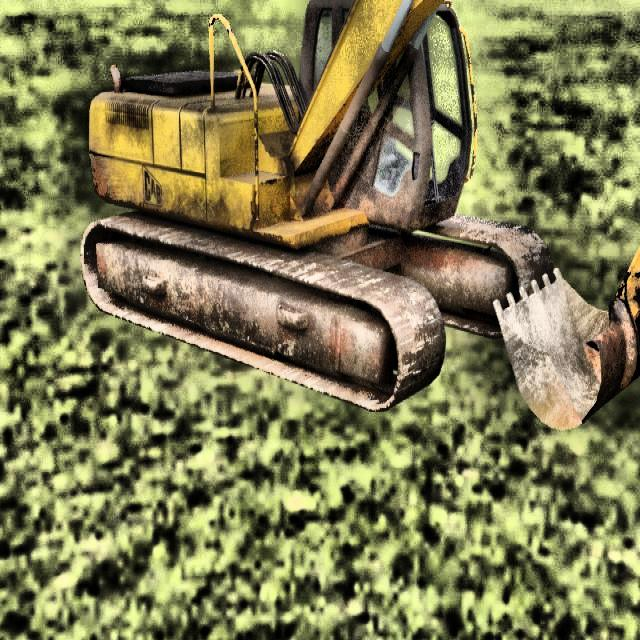excavator: (80, 0, 640, 430)
